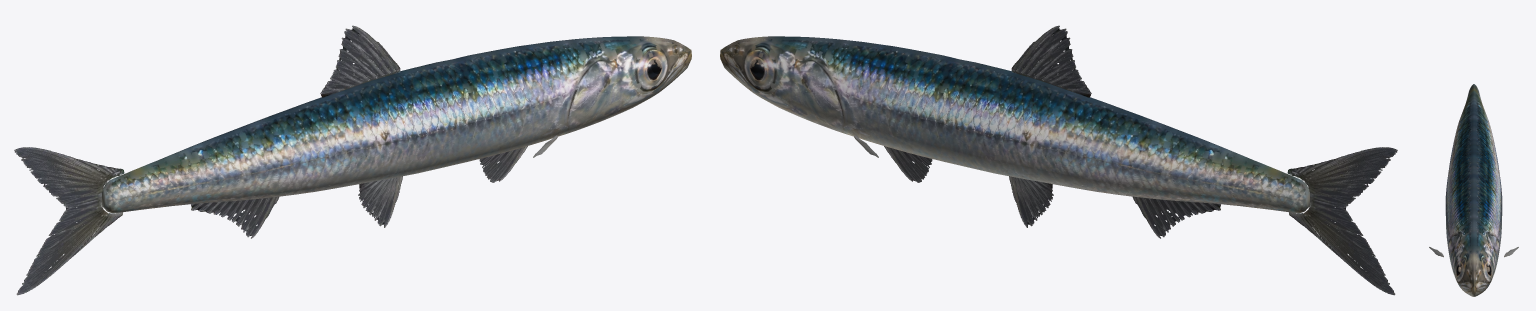
File: anchovy.glb
3 renders of one model, left to right at view 1: azimuth 30°, elevation 25°; view 2: azimuth 150°, elevation 25°; view 3: azimuth 270°, elevation 25°, orthographic. The views are drawn at different scales.
Size of the model in its own units: 1 by 0.2965 by 0.1781.
1 material, 1 textured.
